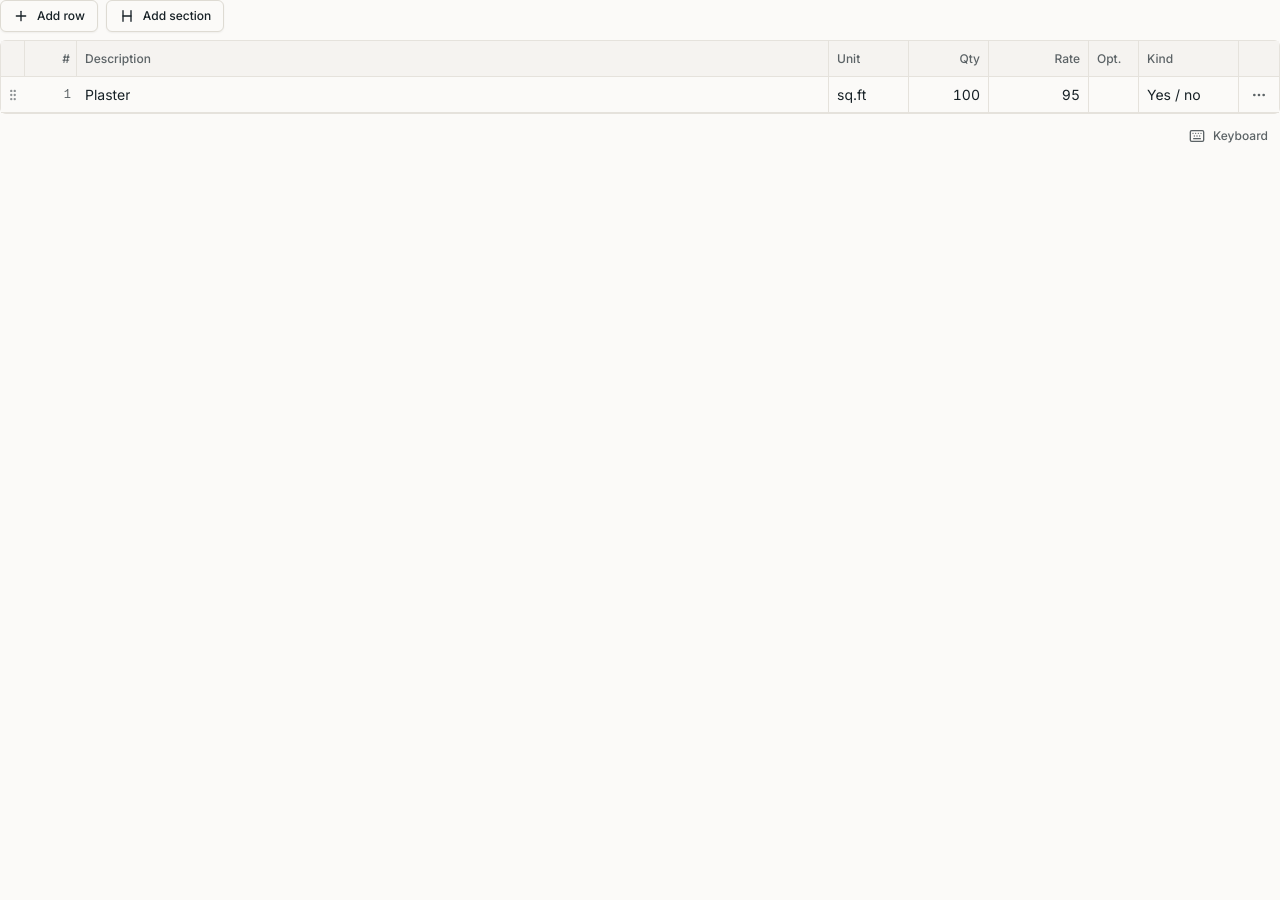
Test: EditableGrid › Enter on a select cell that has a value lists every option; typing over it searches (Phase L5 fix)
Click the cell "Yes / no": (1189, 94) x1=1139 y1=77 x2=1239 y2=112
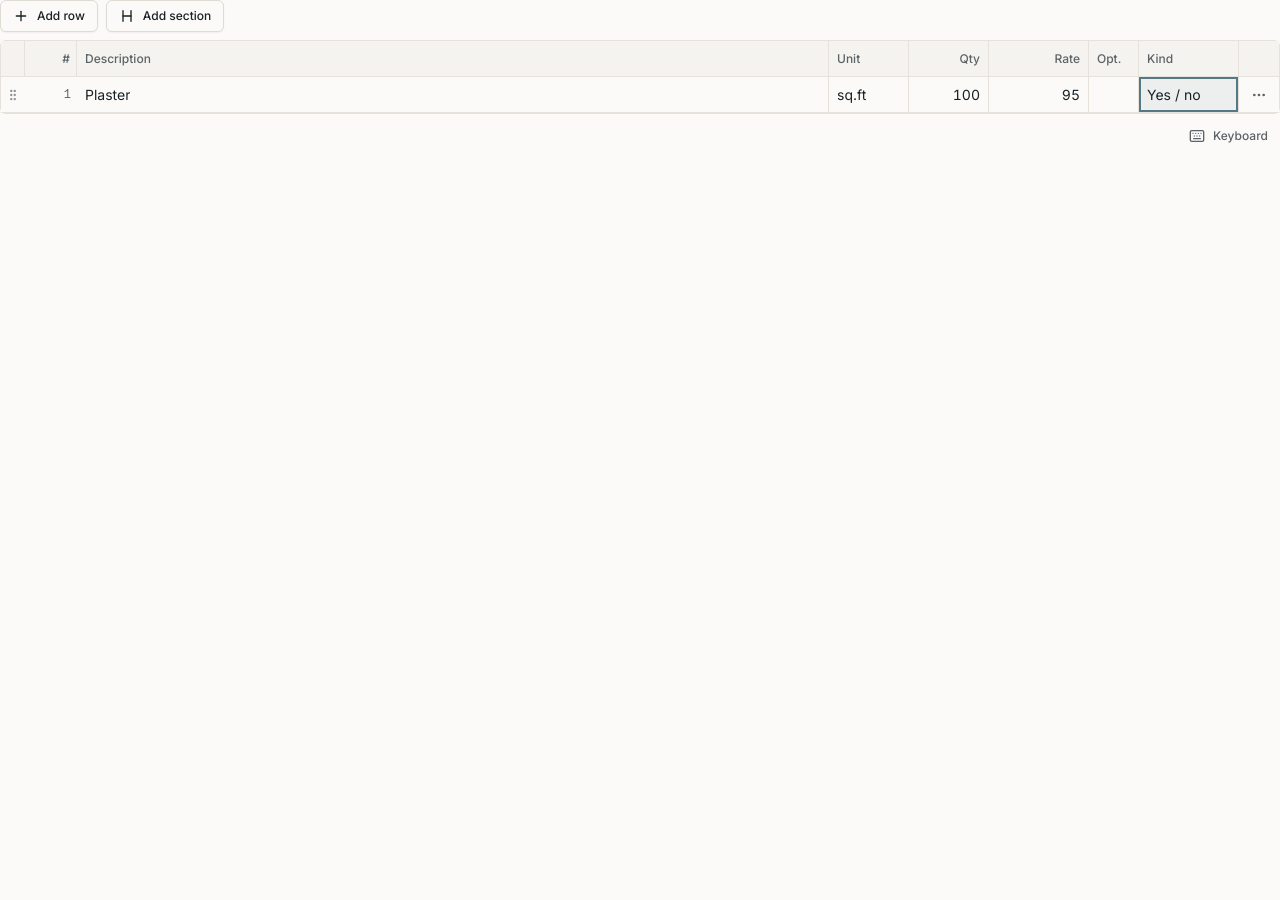
Press Enter
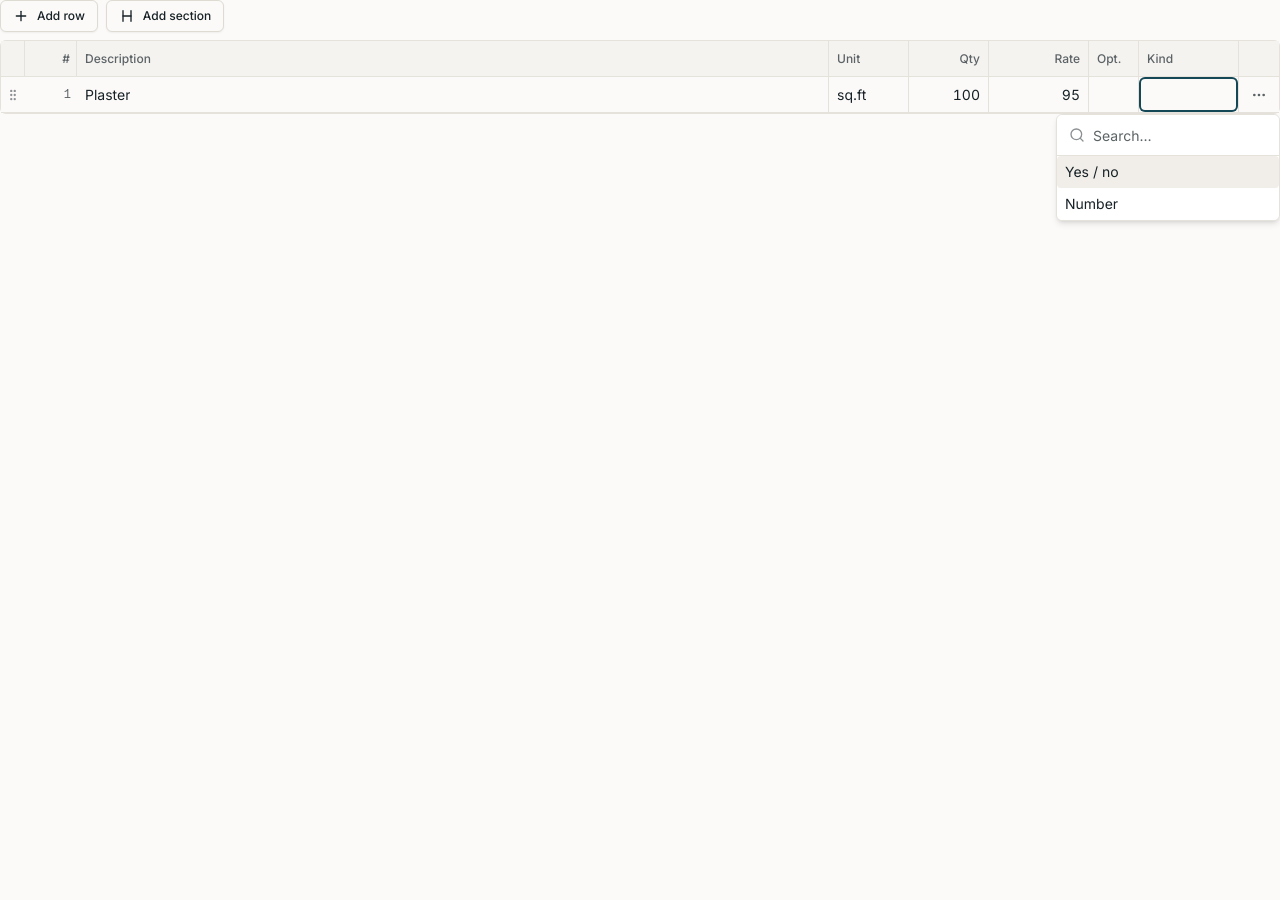
Check: the option "Yes / no" is shown, box x1=1057 y1=156 x2=1279 y2=188
Check: the option "Number" is shown
Click the option "Number": (1092, 204) x1=1065 y1=195 x2=1118 y2=212
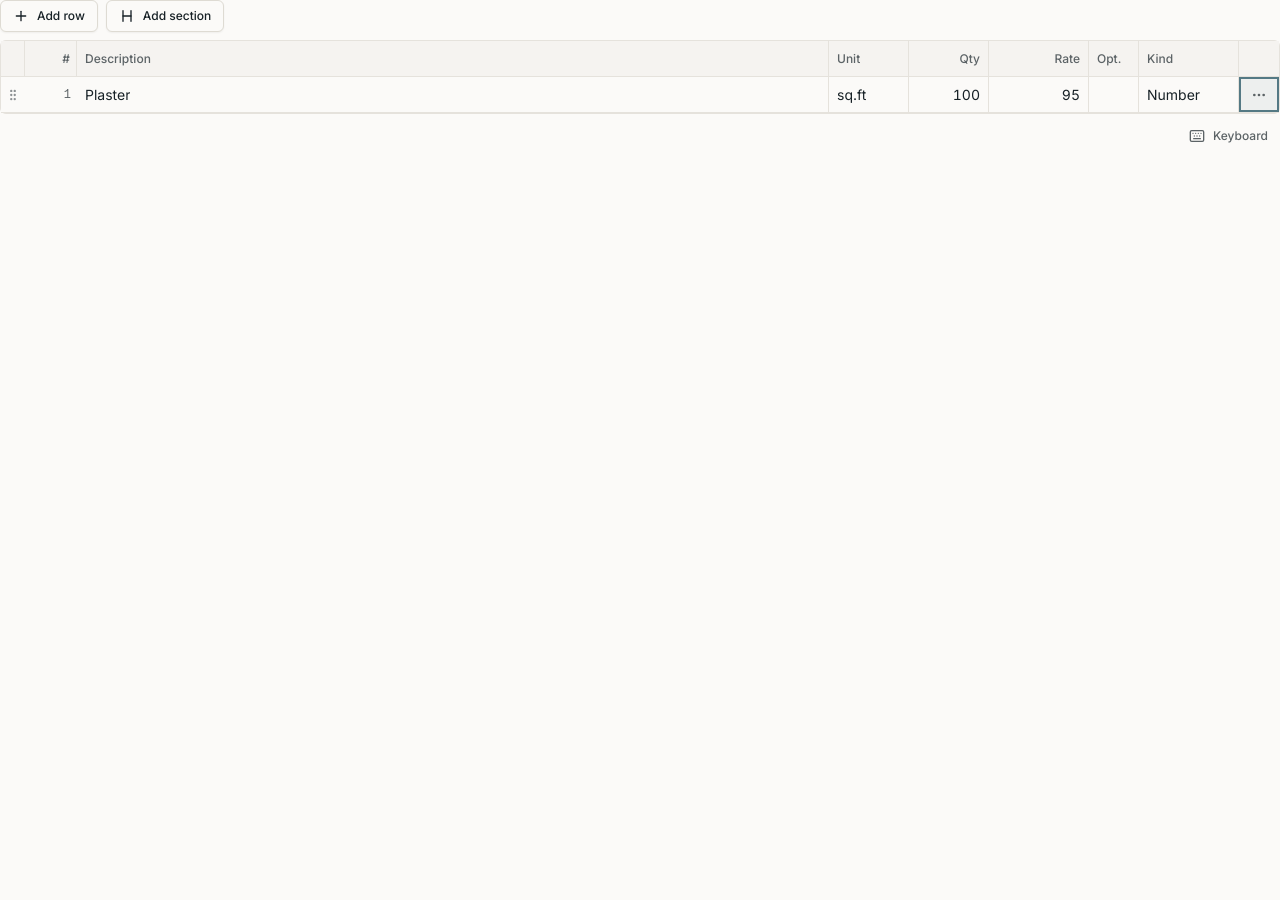
Click the cell "Number": (1189, 94) x1=1139 y1=77 x2=1239 y2=112
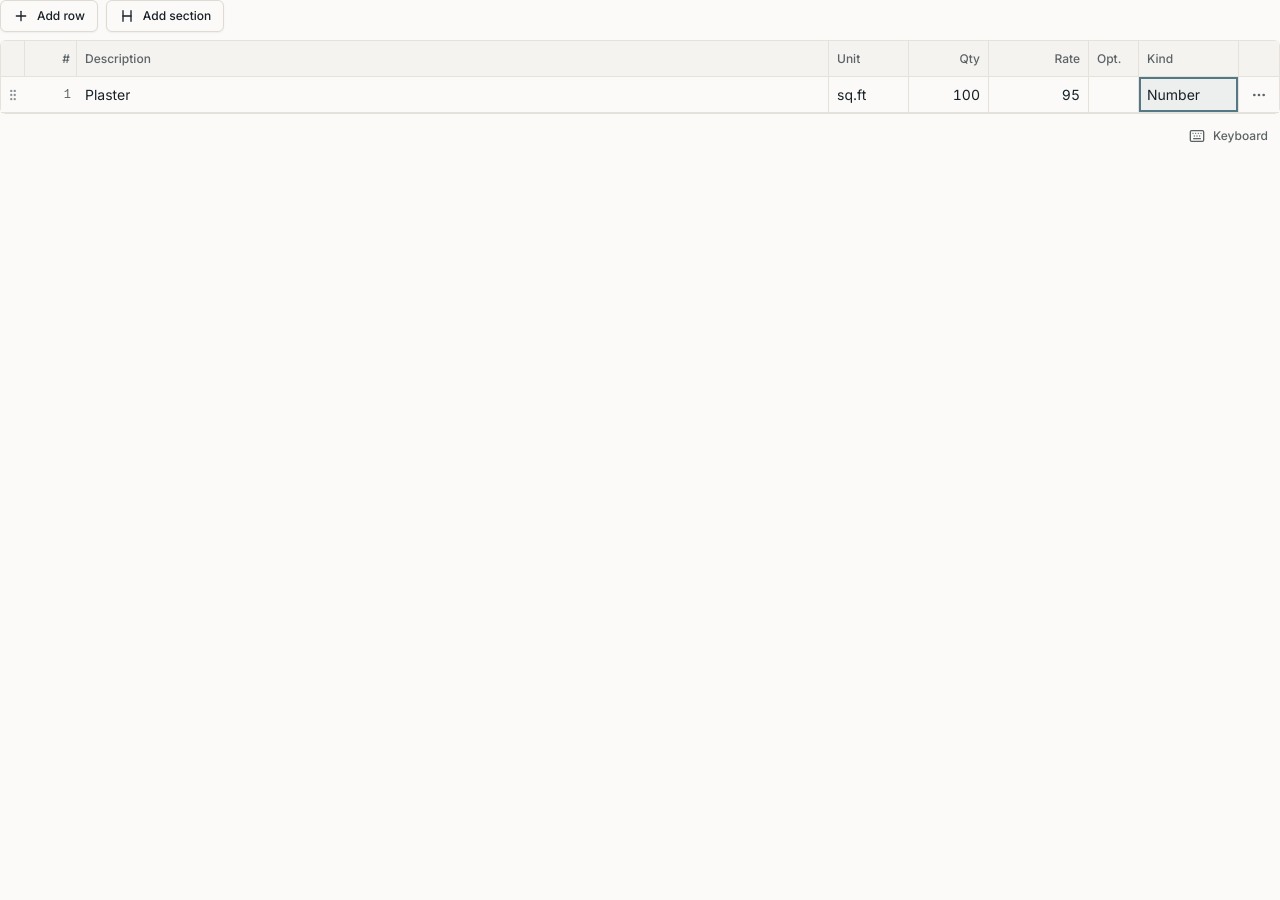
Type keys "Yes"
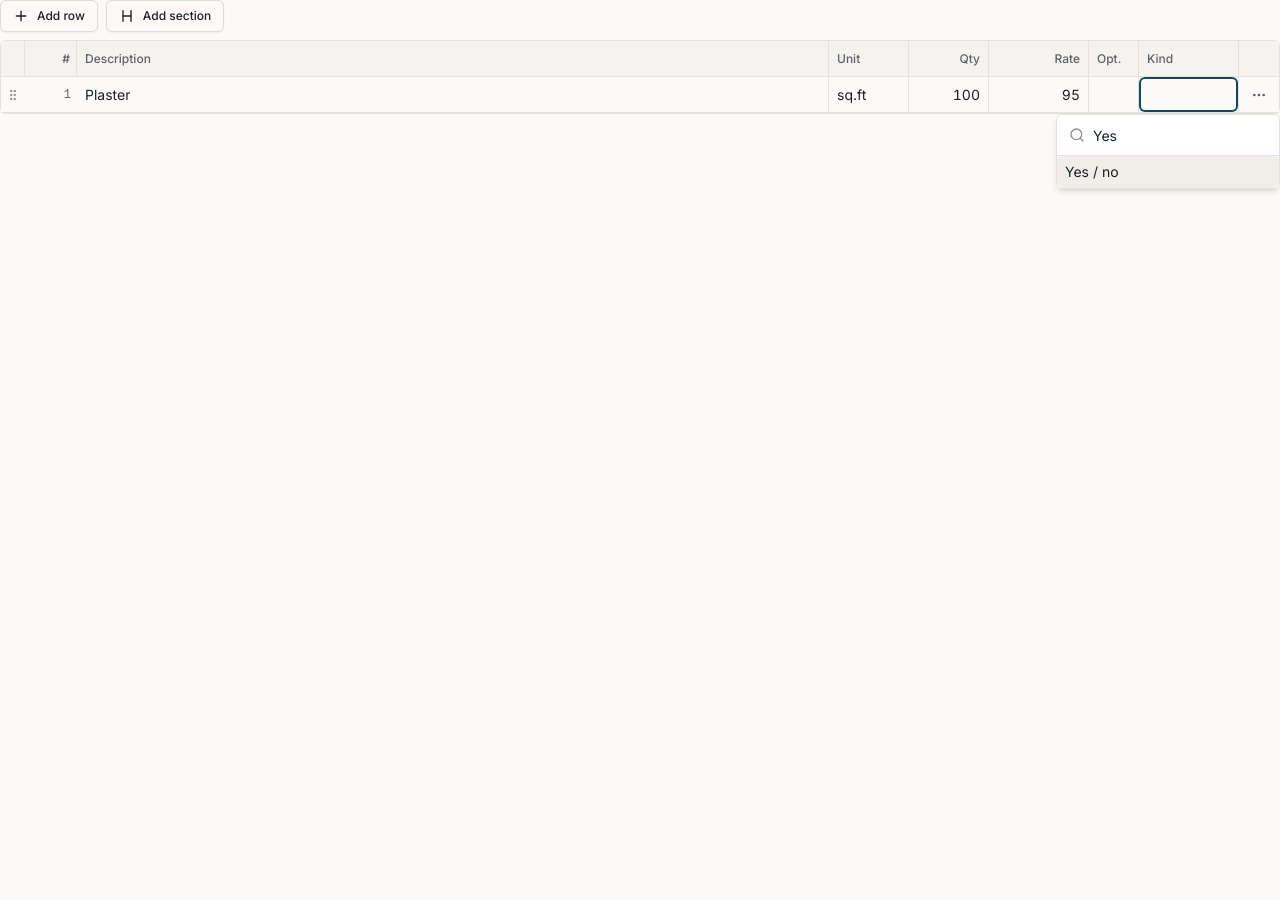
Check: the option "Yes / no" is shown, box x1=1057 y1=156 x2=1279 y2=188
